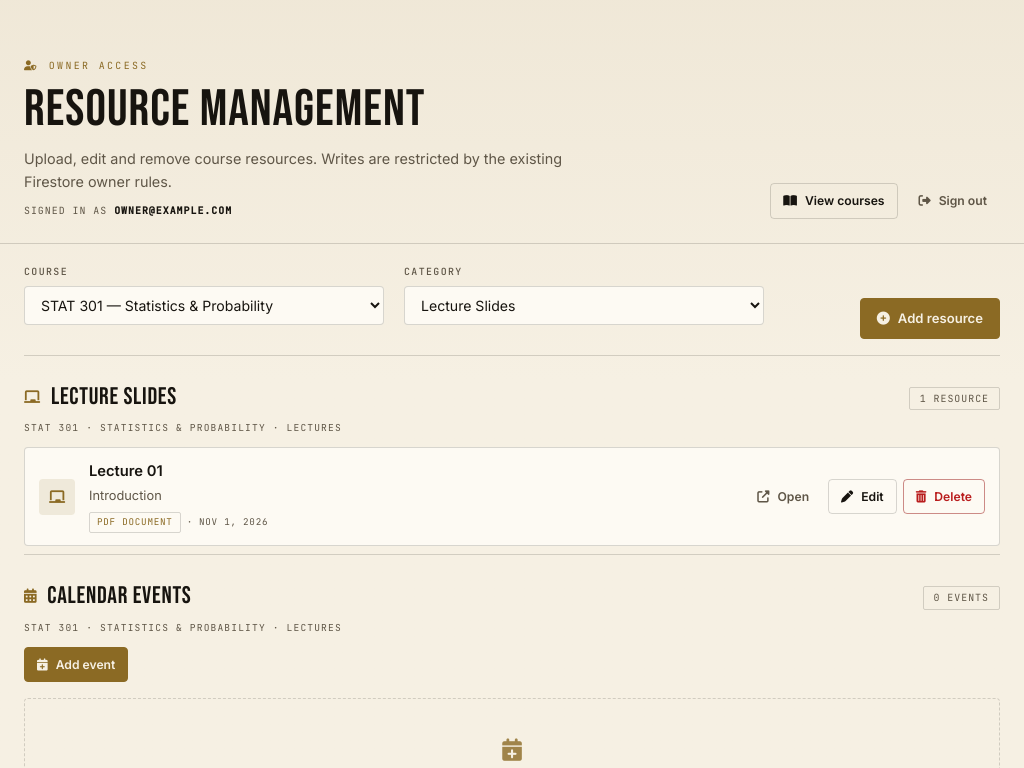
it: AdminPage resource creation › blocks a duplicate link in the same course/category
Expected: the text "Lecture 01" is shown, [89, 462, 163, 480]
Click the button "Add resource".
click(930, 318)  # box [860, 298, 1000, 339]
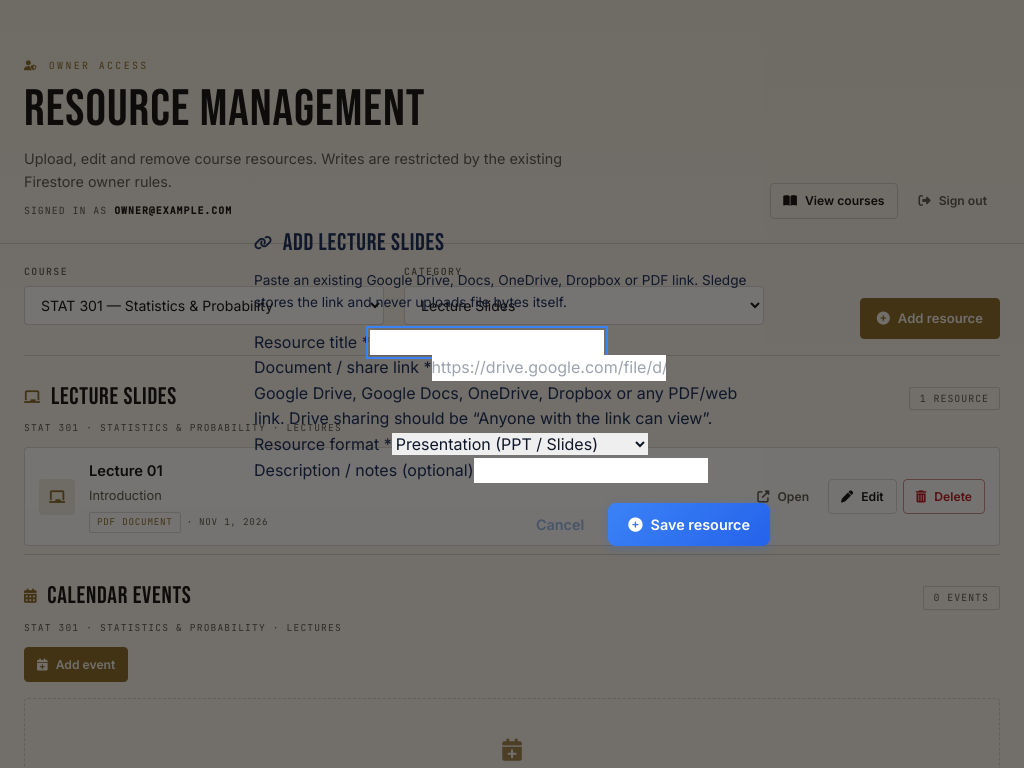
Type "Copy of lecture" into the field labelled "Resource title *".
click(487, 342); type("Copy of lecture")  # box [370, 330, 604, 355]
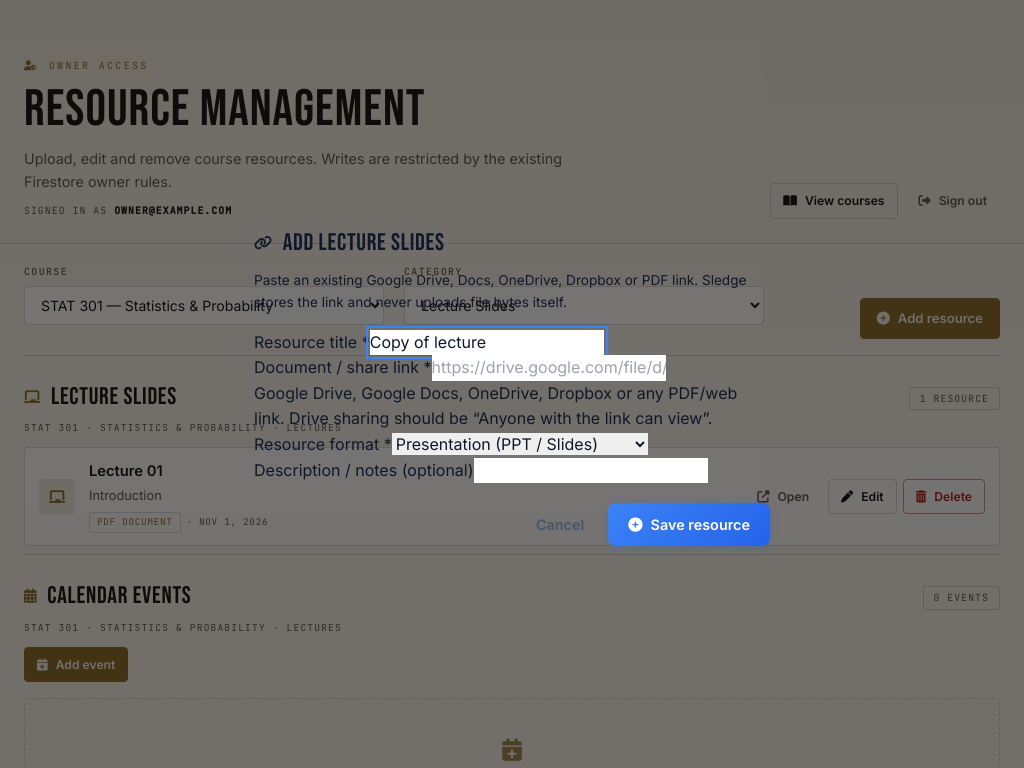
Type "https://drive.google.com/file/d/EXISTING/view?usp=copy" into the field labelled "Document / share link *".
click(548, 368); type("https://drive.google.com/file/d/EXISTING/view?usp=copy")  # box [432, 355, 666, 381]
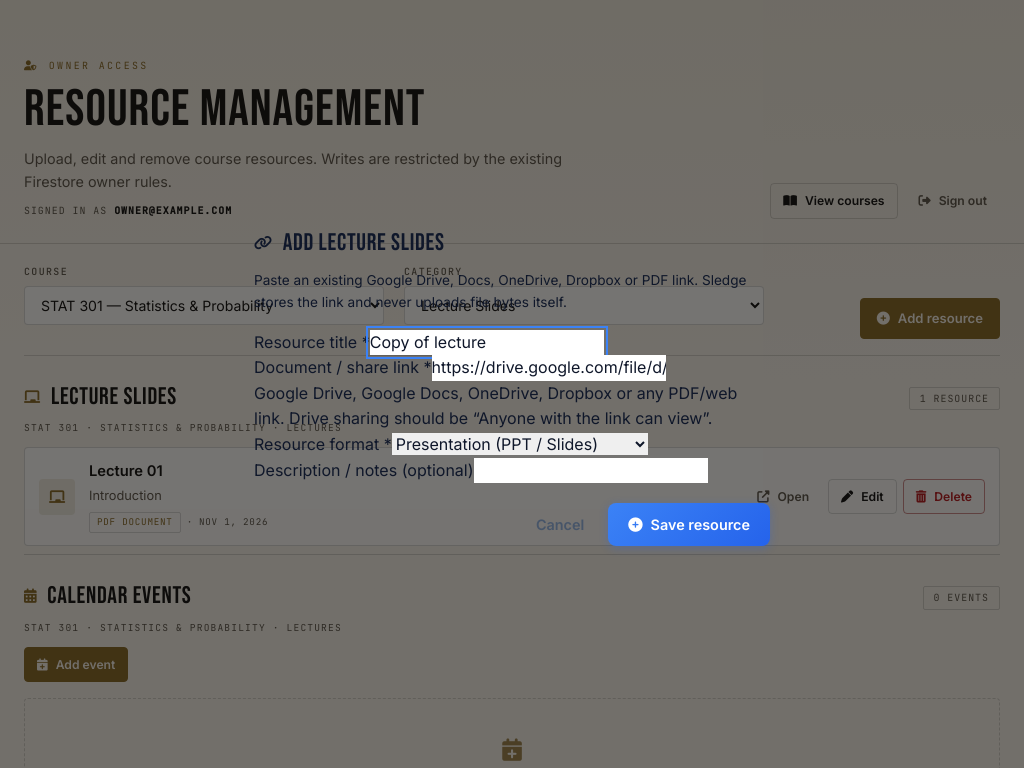
Click the button "Save resource".
click(689, 525)  # box [608, 503, 770, 546]
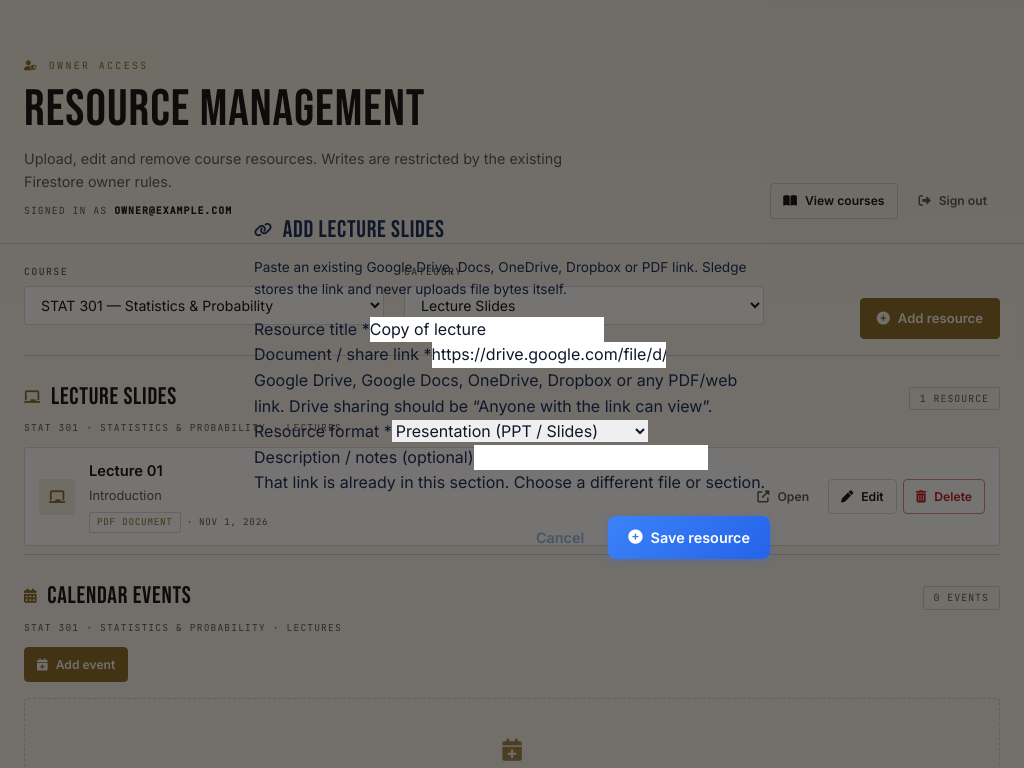
Expected: the message shows "already in this section", [254, 472, 765, 492]
